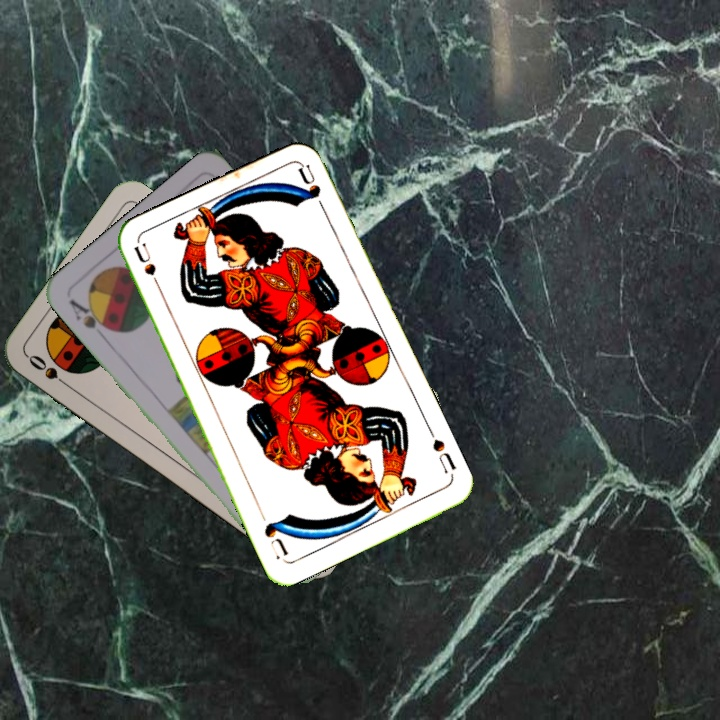SA: (65, 295, 116, 342)
SO: (24, 350, 75, 392)
SU: (129, 240, 166, 297), (428, 435, 459, 481)
